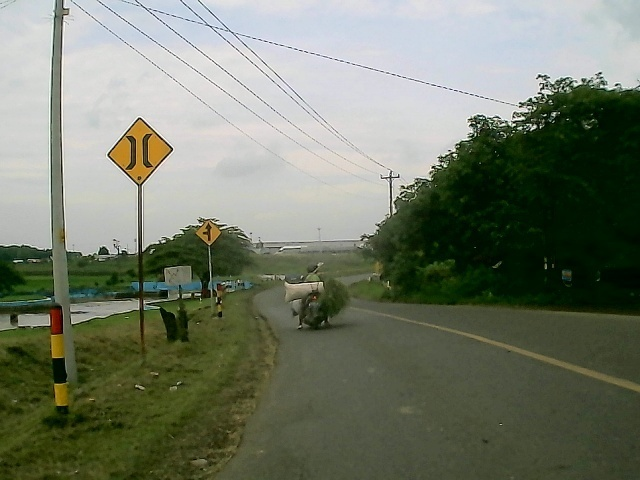Jembatan: (104, 116, 176, 190)
Simpang kiri dengan prioritas: (193, 219, 222, 246)
